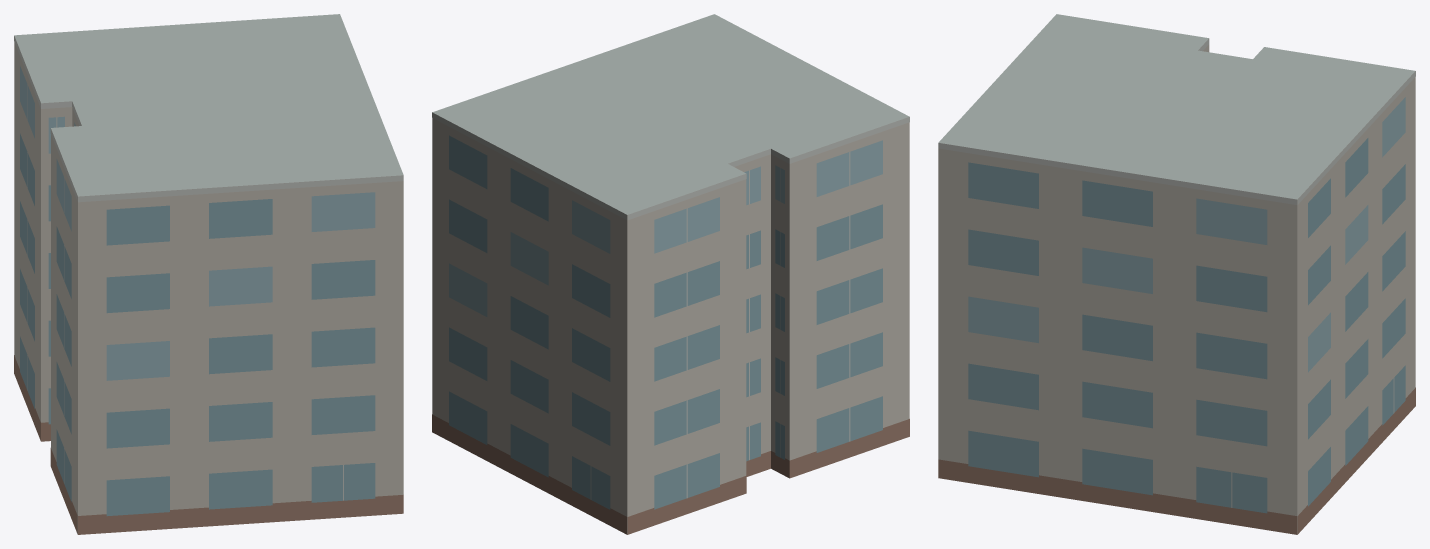
The model's file is survey-upis-32900791.glb.
3 renders of one model, left to right at view 1: azimuth 30°, elevation 25°; view 2: azimuth 150°, elevation 25°; view 3: azimuth 270°, elevation 25°, orthographic. The views are drawn at different scales.
Visible parts, largest first — view 1: survey-upis-32900791.tmp; view 2: survey-upis-32900791.tmp; view 3: survey-upis-32900791.tmp.
Boxes of the visible parts, <box> form: survey-upis-32900791.tmp: <box>14,14,403,534</box>; survey-upis-32900791.tmp: <box>432,14,909,534</box>; survey-upis-32900791.tmp: <box>938,14,1415,534</box>.
Bounding box in the file's own units: 16.98 × 14.3 × 18.46.
